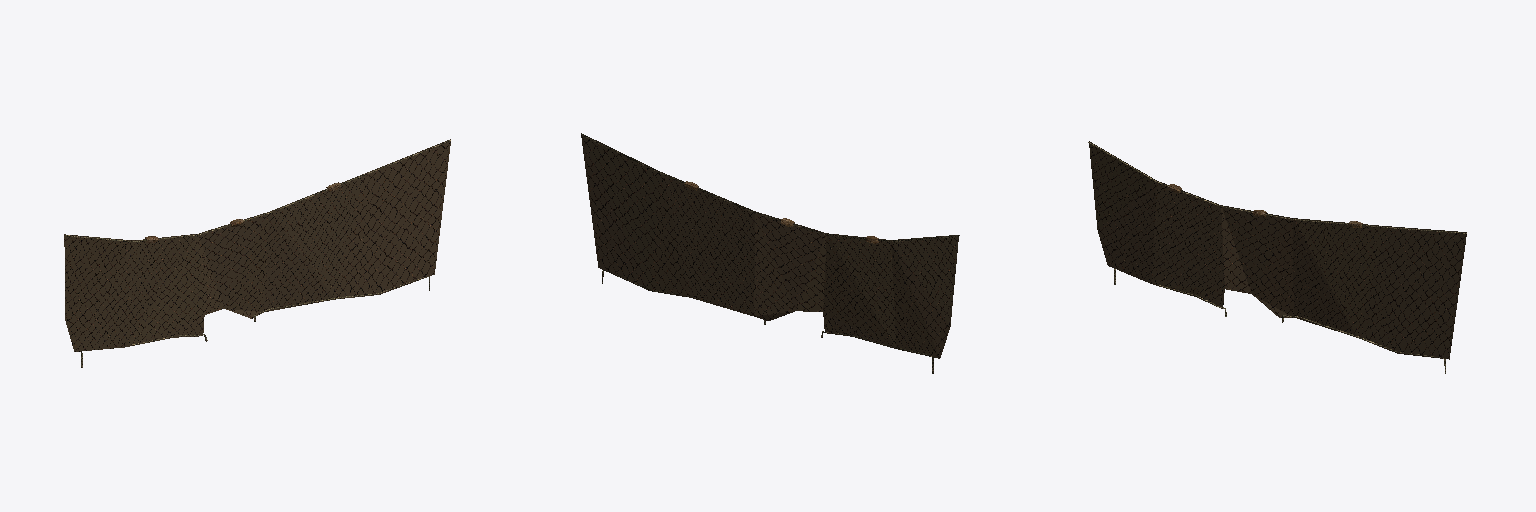
3 renders of one model, left to right at view 1: azimuth 30°, elevation 25°; view 2: azimuth 150°, elevation 25°; view 3: azimuth 330°, elevation 25°, orthographic.
Visible parts, largest first — view 1: fishing_net_hanging_flat_long; view 2: fishing_net_hanging_flat_long; view 3: fishing_net_hanging_flat_long.
Part boxes in pixels (bbox=[...]): fishing_net_hanging_flat_long: bbox=[64, 139, 450, 367]; fishing_net_hanging_flat_long: bbox=[581, 133, 959, 373]; fishing_net_hanging_flat_long: bbox=[1088, 141, 1466, 373].
Bounding box in the file's own units: 180 × 65.79 × 7.9.
3 materials, 3 textured.